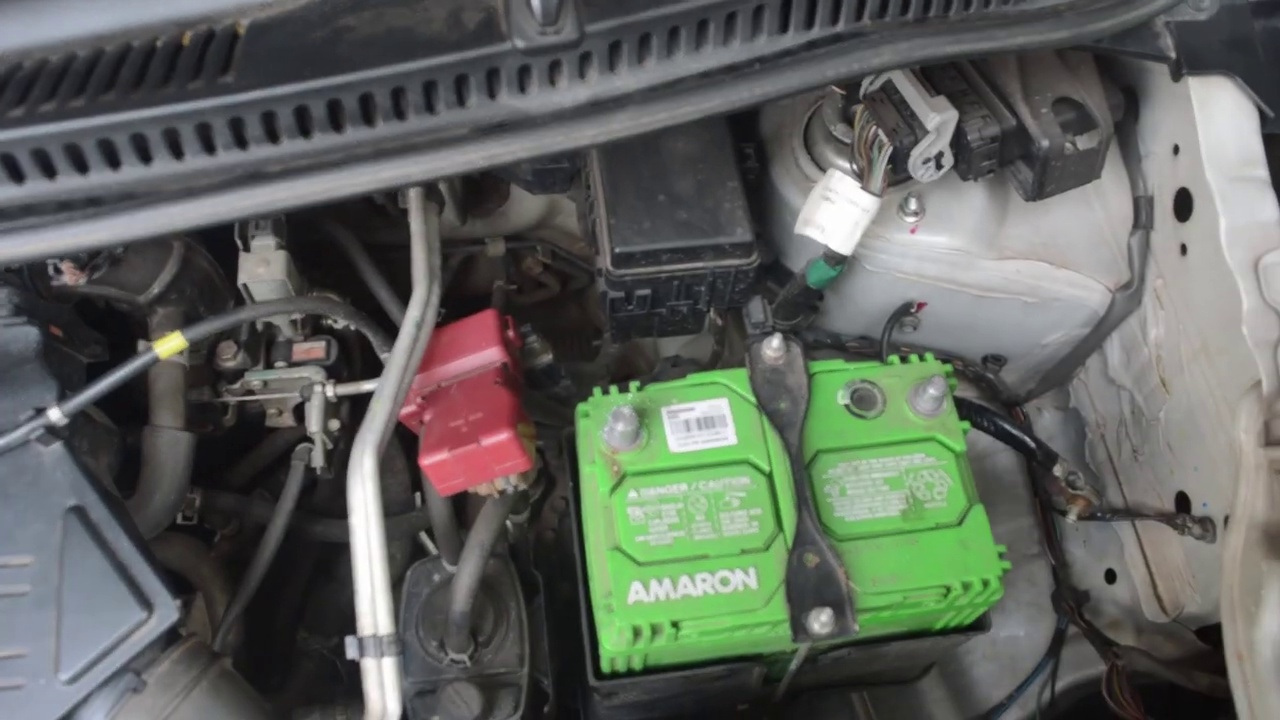battery: (575, 341, 1008, 616)
neg_disconnected: (887, 341, 979, 431)
pos_disconnected: (426, 328, 654, 490)
